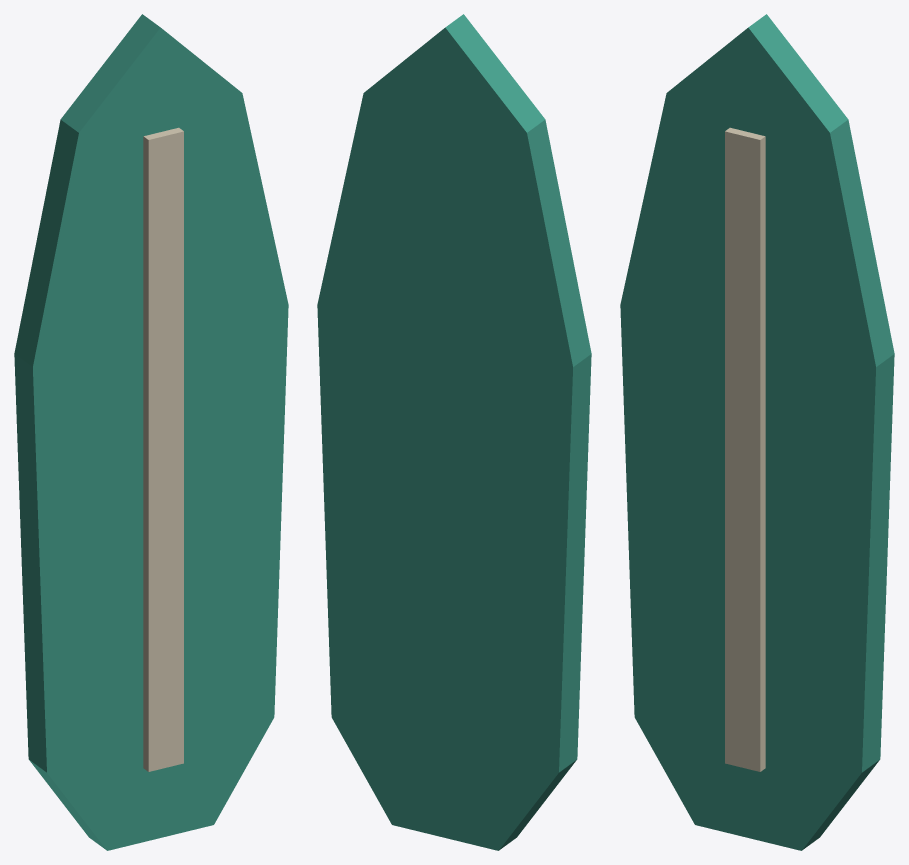
Rendered from surfboard.glb.
3 renders of one model, left to right at view 1: azimuth 30°, elevation 25°; view 2: azimuth 150°, elevation 25°; view 3: azimuth 330°, elevation 25°, orthographic.
Parts seen in each view (by area): view 1: surfboard_pc; view 2: surfboard_pc; view 3: surfboard_pc.
Part boxes in pixels (x1=…): surfboard_pc: x1=14, y1=14, x2=288, y2=850; surfboard_pc: x1=317, y1=14, x2=591, y2=850; surfboard_pc: x1=620, y1=14, x2=894, y2=850.
Size of the model in its own units: 0.72 by 2.18 by 0.1175.
